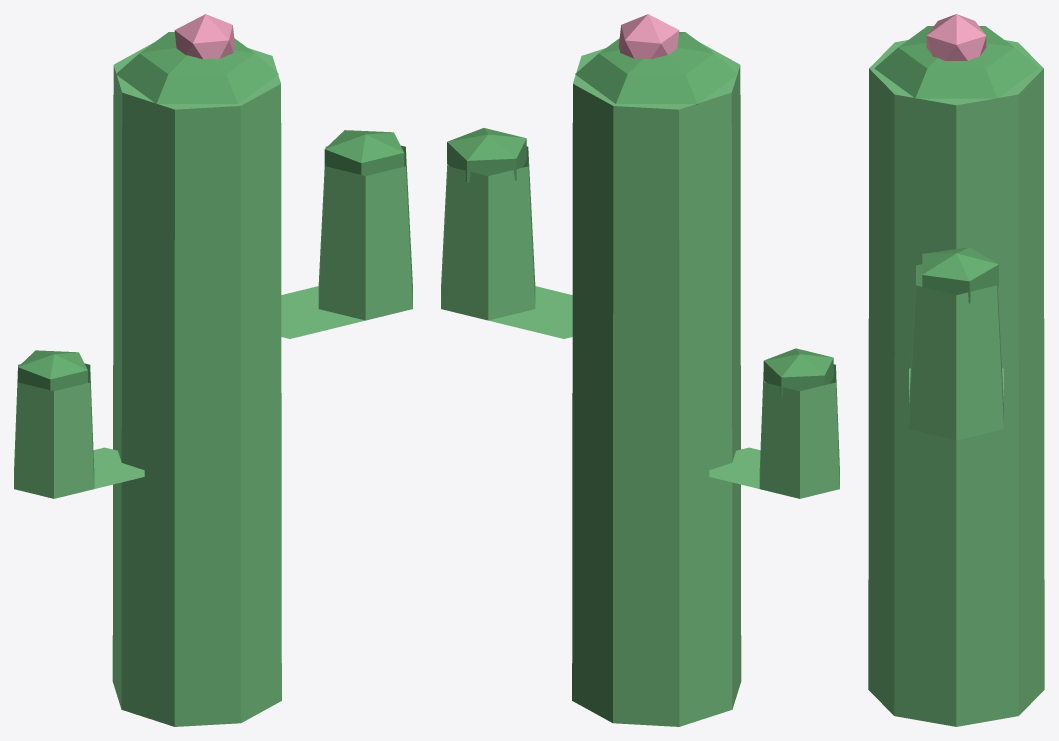
The model's file is cactus.glb.
3 renders of one model, left to right at view 1: azimuth 30°, elevation 25°; view 2: azimuth 150°, elevation 25°; view 3: azimuth 270°, elevation 25°, orthographic.
Parts seen in each view (by area): view 1: CactusBody, ArmR, ArmL, TopCap, ArmCapR, ArmCapL, Flower; view 2: CactusBody, ArmR, ArmL, TopCap, ArmCapR, ArmCapL, Flower; view 3: CactusBody, ArmR, TopCap, ArmCapR, Flower.
Boxes of the visible parts, <box> form: CactusBody: <box>112,42,281,726</box>; ArmR: <box>281,145,412,338</box>; ArmL: <box>14,363,144,498</box>; TopCap: <box>116,32,278,104</box>; ArmCapR: <box>324,130,404,175</box>; ArmCapL: <box>18,350,87,390</box>; Flower: <box>174,14,235,59</box>; CactusBody: <box>572,42,741,726</box>; ArmR: <box>441,146,572,338</box>; ArmL: <box>709,364,839,498</box>; TopCap: <box>575,32,737,104</box>; ArmCapR: <box>447,128,526,182</box>; ArmCapL: <box>763,348,833,396</box>; Flower: <box>618,14,679,59</box>; CactusBody: <box>868,40,1044,726</box>; ArmR: <box>909,264,1003,440</box>; TopCap: <box>874,26,1038,98</box>; ArmCapR: <box>922,247,998,303</box>; Flower: <box>926,14,986,60</box>.
Size of the model in its own units: 0.2368 by 0.383 by 0.09.
